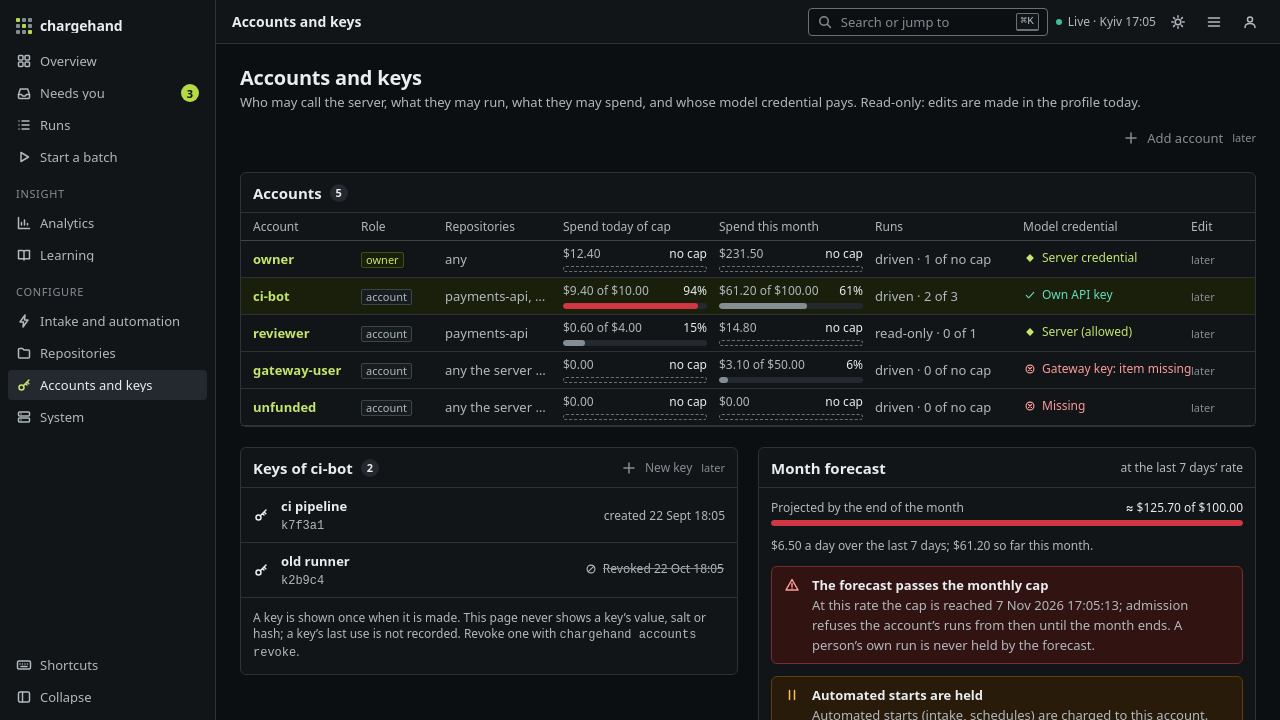
Accounts with data › says what a missing secret item means for the account, and shows allow_server_credential as a disabled switch
This screenshot has width=1280, height=720.
Expected: the table named "Accounts" is shown, left=241, top=213, right=1255, bottom=426
Click the button "gateway-user". click: (297, 370)
box: left=253, top=360, right=341, bottom=380
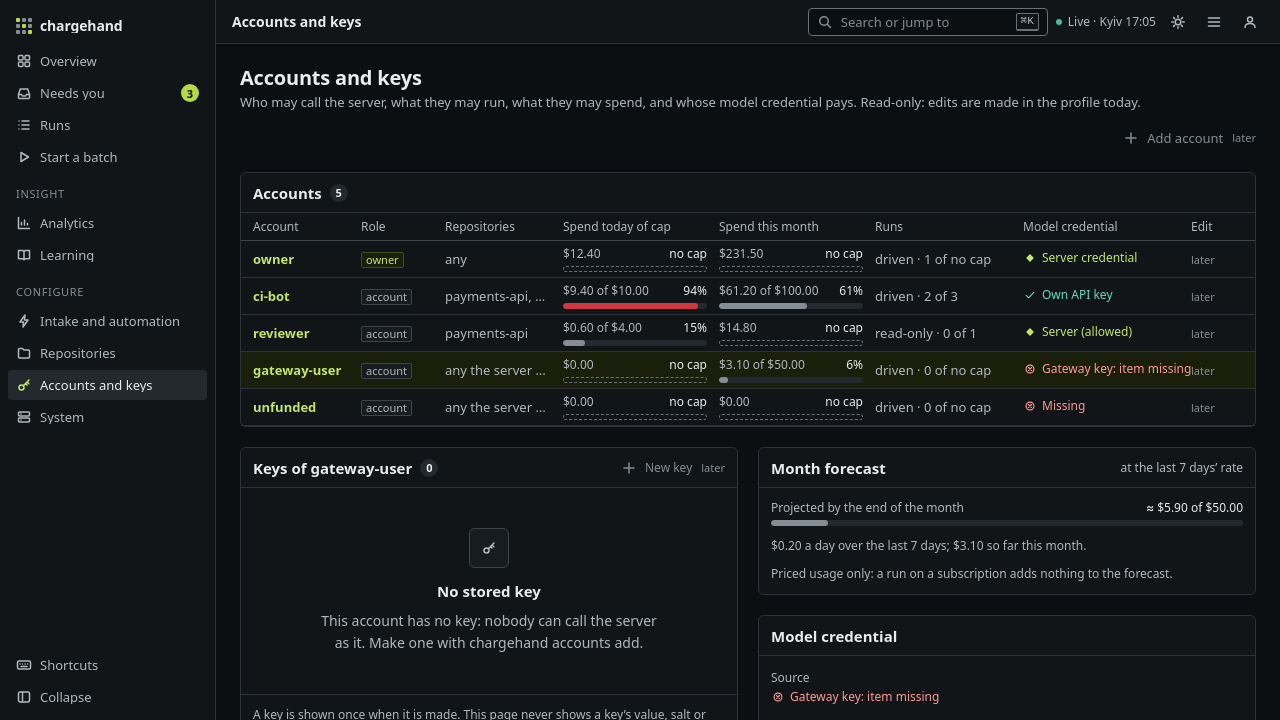
Click the button "unfunded". click: (285, 407)
box: left=253, top=397, right=316, bottom=417
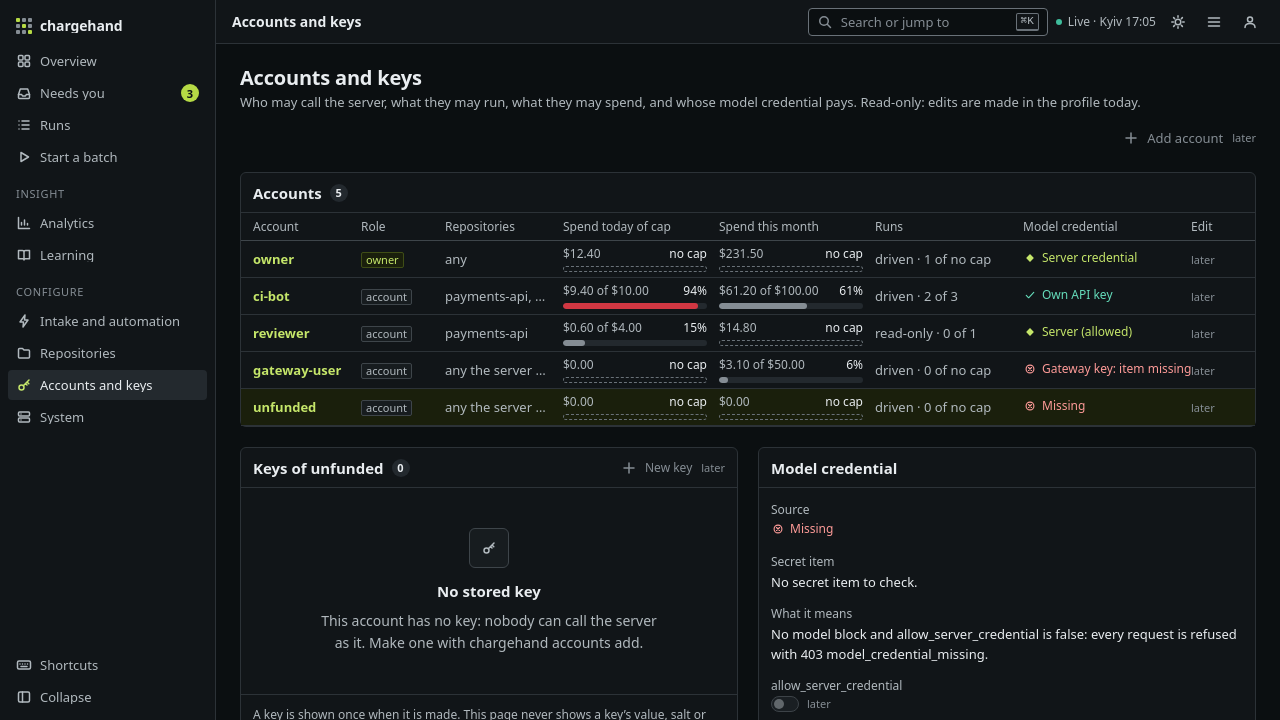
Expected: the switch named "allow_server_credential" is not checked, left=771, top=696, right=799, bottom=712
Expected: the switch named "allow_server_credential" is disabled, left=771, top=696, right=799, bottom=712
Click the button "reviewer". click: (281, 333)
box: left=253, top=323, right=310, bottom=343
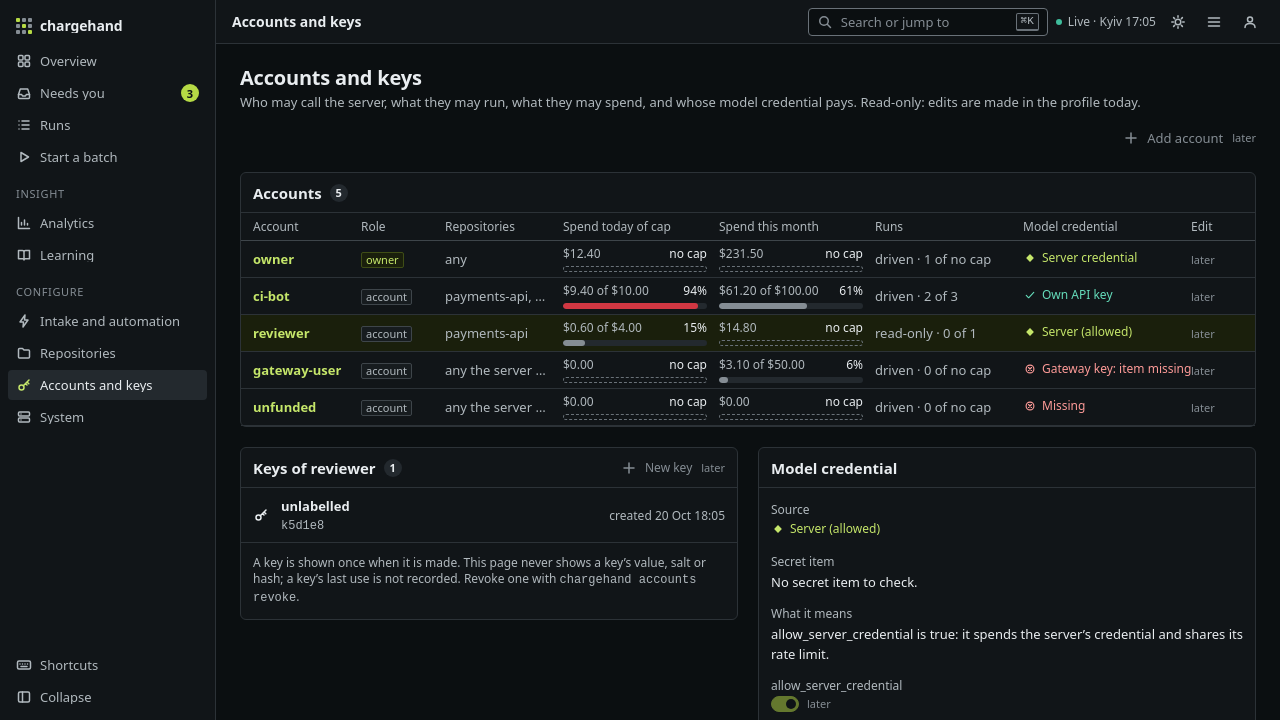
Expected: the switch named "allow_server_credential" is checked, left=771, top=696, right=799, bottom=712
